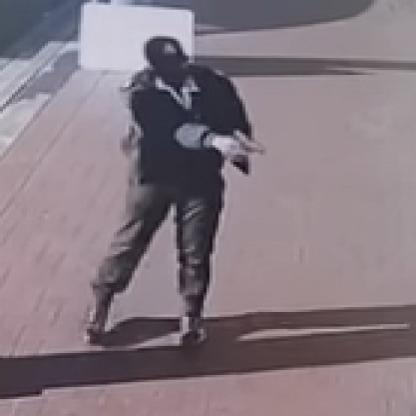criminal: (81, 34, 262, 352)
weapon: (229, 127, 261, 160)
